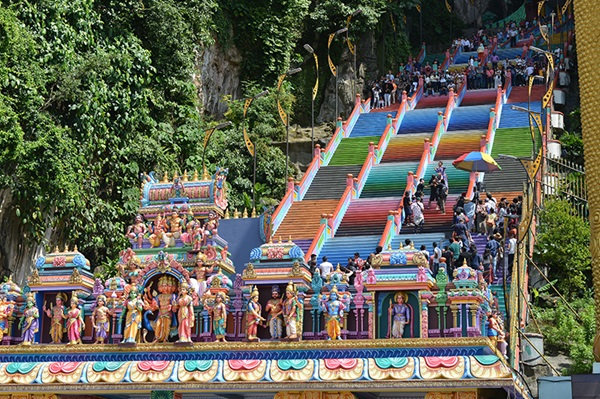Hindu Temple: (8, 190, 503, 386)
